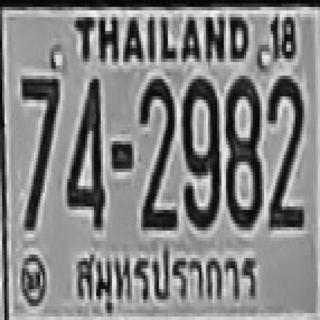N02: (265, 74, 307, 227), (139, 77, 175, 229)
N04: (65, 76, 106, 230)
N07: (20, 76, 58, 227)
N08: (224, 76, 263, 229)
N09: (181, 76, 222, 230)
P57: (64, 239, 266, 317)
